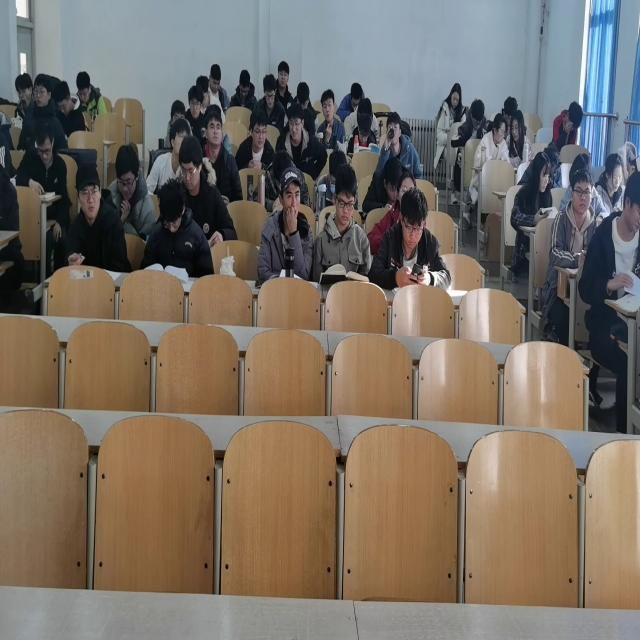bow: (264, 150, 311, 214), (233, 108, 276, 174), (361, 155, 405, 215), (450, 98, 488, 148), (346, 112, 377, 156), (336, 81, 365, 122)
down: (399, 186, 429, 251), (158, 178, 188, 235), (332, 163, 358, 226), (178, 134, 204, 192), (115, 144, 140, 203), (623, 171, 640, 235), (383, 155, 403, 204), (35, 121, 55, 168), (533, 151, 552, 195), (605, 153, 624, 192), (16, 73, 34, 110), (55, 80, 72, 118), (76, 70, 92, 105), (566, 100, 583, 132), (470, 99, 486, 132), (263, 74, 277, 109), (296, 80, 310, 114), (358, 112, 372, 145), (209, 63, 222, 95), (238, 68, 250, 100), (350, 82, 363, 110), (450, 82, 462, 110)
lookup: (75, 161, 103, 221), (278, 166, 302, 224), (570, 168, 594, 216), (169, 116, 190, 158), (204, 110, 224, 148), (250, 110, 268, 149), (287, 102, 304, 142), (34, 73, 52, 110), (386, 111, 403, 146), (187, 86, 204, 120), (321, 88, 336, 124), (277, 60, 290, 89)
sit: (368, 186, 451, 290), (577, 170, 640, 302), (62, 159, 132, 271), (311, 162, 371, 284), (141, 178, 214, 277), (178, 134, 237, 246), (258, 166, 314, 283), (549, 168, 599, 267), (106, 144, 156, 240), (17, 71, 69, 153), (277, 102, 328, 181), (15, 119, 68, 194), (202, 110, 243, 205), (146, 116, 191, 198), (510, 150, 554, 230), (377, 110, 423, 180), (252, 72, 286, 131), (474, 112, 509, 168), (317, 87, 347, 151), (54, 78, 86, 136), (595, 152, 624, 216), (507, 108, 536, 168), (552, 100, 583, 152), (76, 70, 107, 119), (437, 82, 462, 141), (184, 84, 206, 138), (230, 68, 258, 110), (208, 62, 229, 113), (276, 61, 294, 112)
